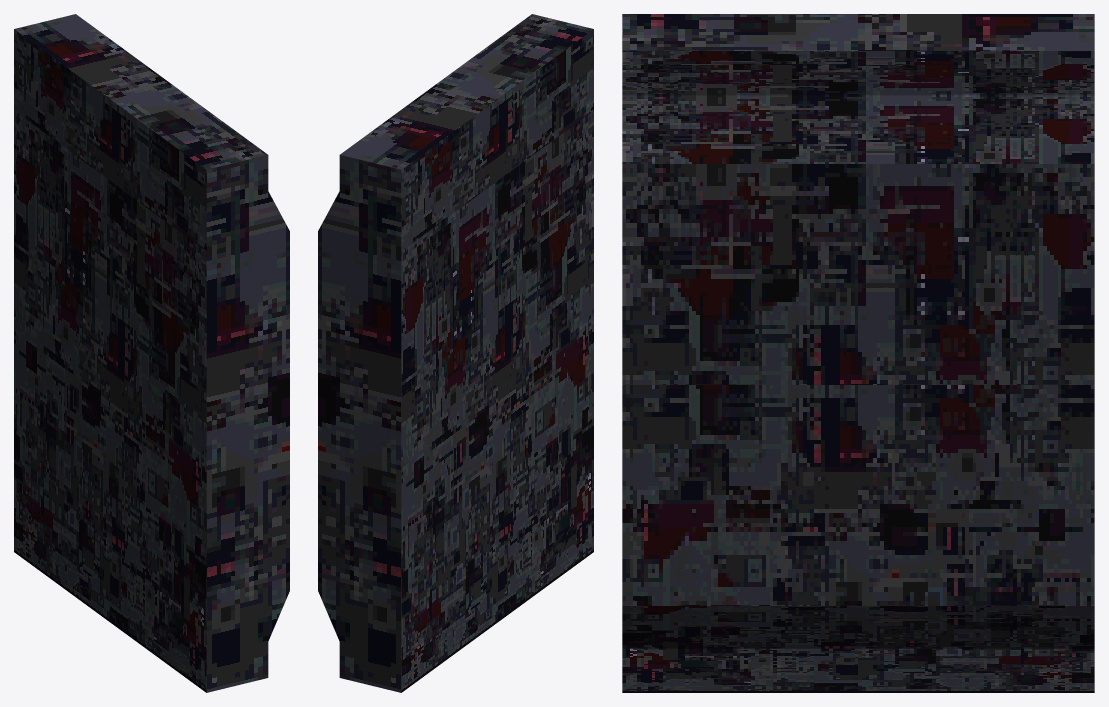
Rendered from Tech_Fat_wall-col.glb.
3 views of the same model, side by side, from view 1: azimuth 30°, elevation 25°; view 2: azimuth 150°, elevation 25°; view 3: azimuth 270°, elevation 25° (orthographic). The views are drawn at different scales.
Visible parts, largest first — view 1: Tech_Fat_wall-col; view 2: Tech_Fat_wall-col; view 3: Tech_Fat_wall-col.
Boxes of the visible parts, x1,y1,x2,y2 form: Tech_Fat_wall-col: (14, 14, 289, 692); Tech_Fat_wall-col: (318, 14, 593, 692); Tech_Fat_wall-col: (622, 14, 1094, 692).
Size of the model in its own units: 0.5 by 3 by 2.
Materials: 1 (1 with a texture image).
